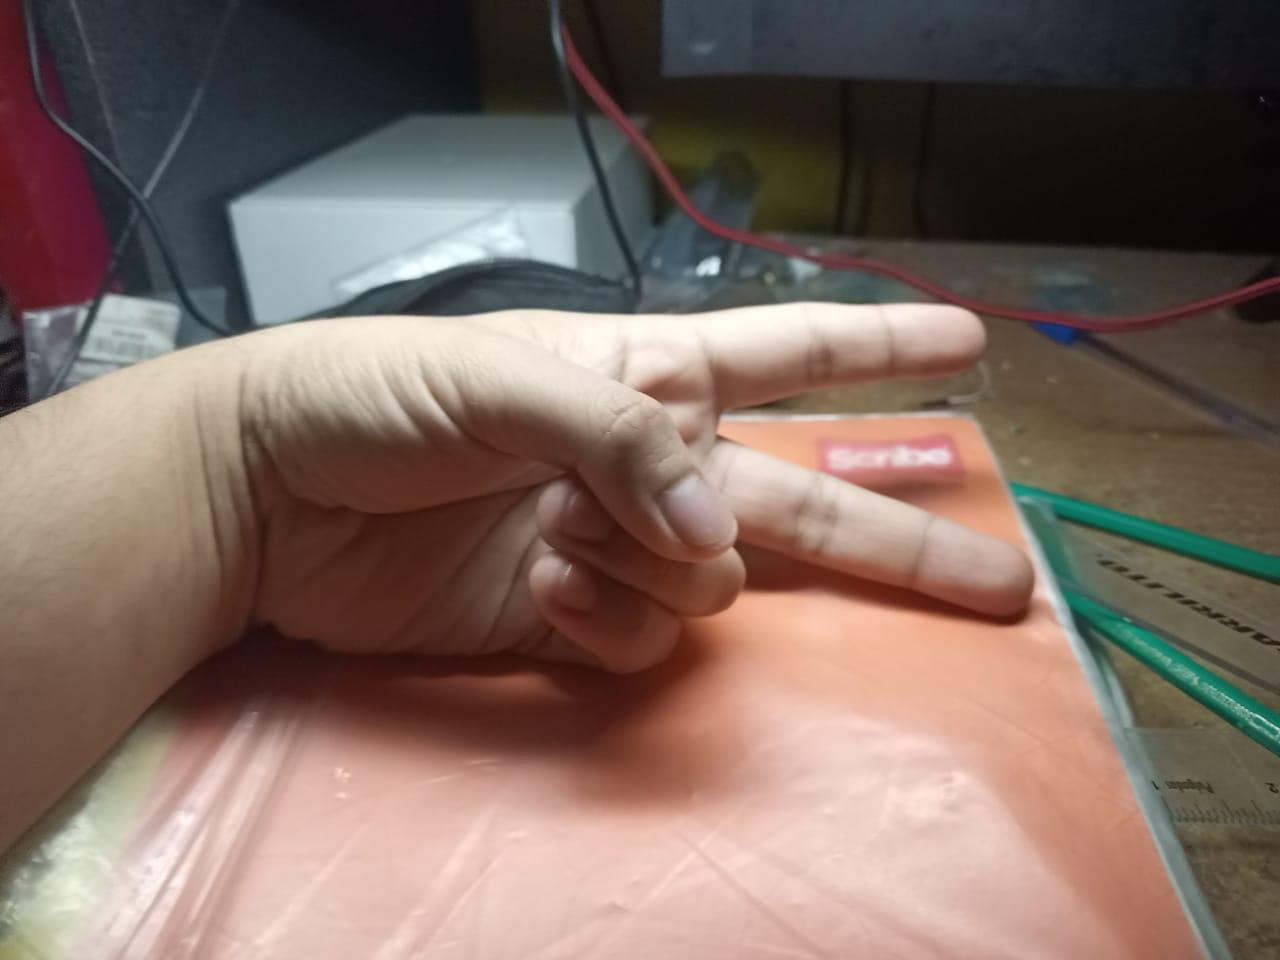Scissor: (225, 249, 1054, 736)
